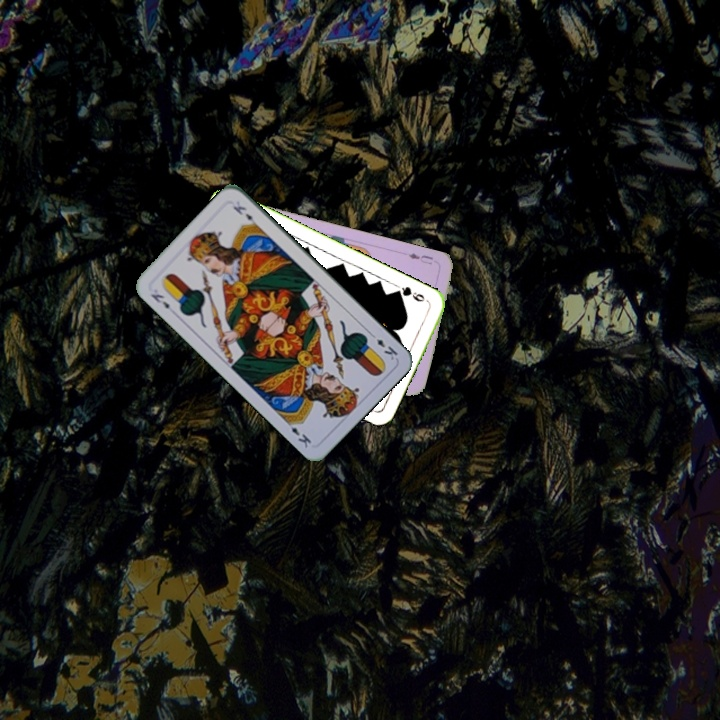EK: (366, 329, 400, 363), (147, 289, 172, 312)
EU: (404, 249, 435, 267)
G9: (391, 282, 432, 305)
